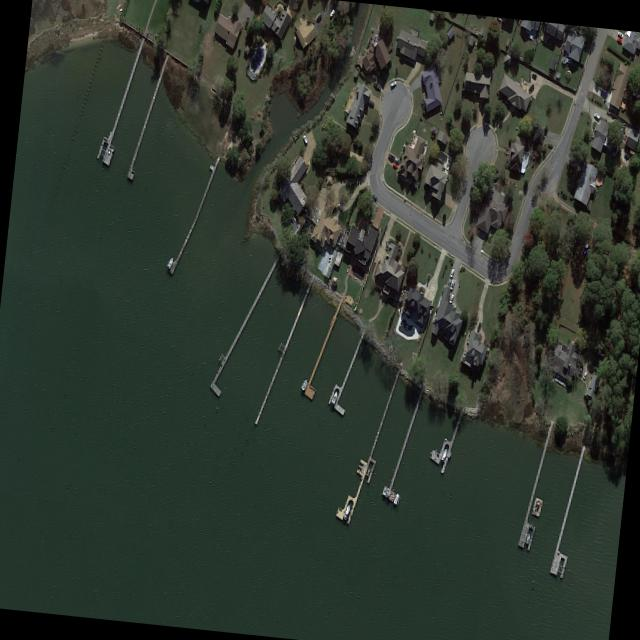ship: (343, 503, 351, 521), (330, 389, 338, 405), (440, 447, 448, 462), (300, 377, 308, 391), (393, 492, 400, 505), (167, 256, 174, 269), (525, 532, 531, 544), (329, 8, 335, 18), (116, 3, 121, 10), (119, 8, 122, 12)
small-vehicle: (582, 240, 589, 254), (449, 278, 455, 290), (302, 133, 308, 144), (449, 267, 455, 278), (448, 293, 454, 304), (373, 81, 381, 89), (528, 83, 535, 92), (244, 16, 249, 28), (616, 36, 623, 44), (337, 202, 343, 211), (577, 366, 583, 375), (476, 321, 482, 330), (586, 247, 591, 257), (582, 370, 587, 380), (446, 278, 451, 288), (600, 89, 607, 96), (593, 112, 600, 119), (394, 156, 400, 164), (617, 30, 623, 38), (372, 191, 377, 200), (388, 153, 394, 160), (368, 99, 374, 106), (317, 13, 322, 21), (624, 153, 630, 159), (390, 80, 396, 86), (593, 365, 599, 371), (531, 72, 537, 78), (393, 162, 398, 169), (385, 241, 388, 250)
